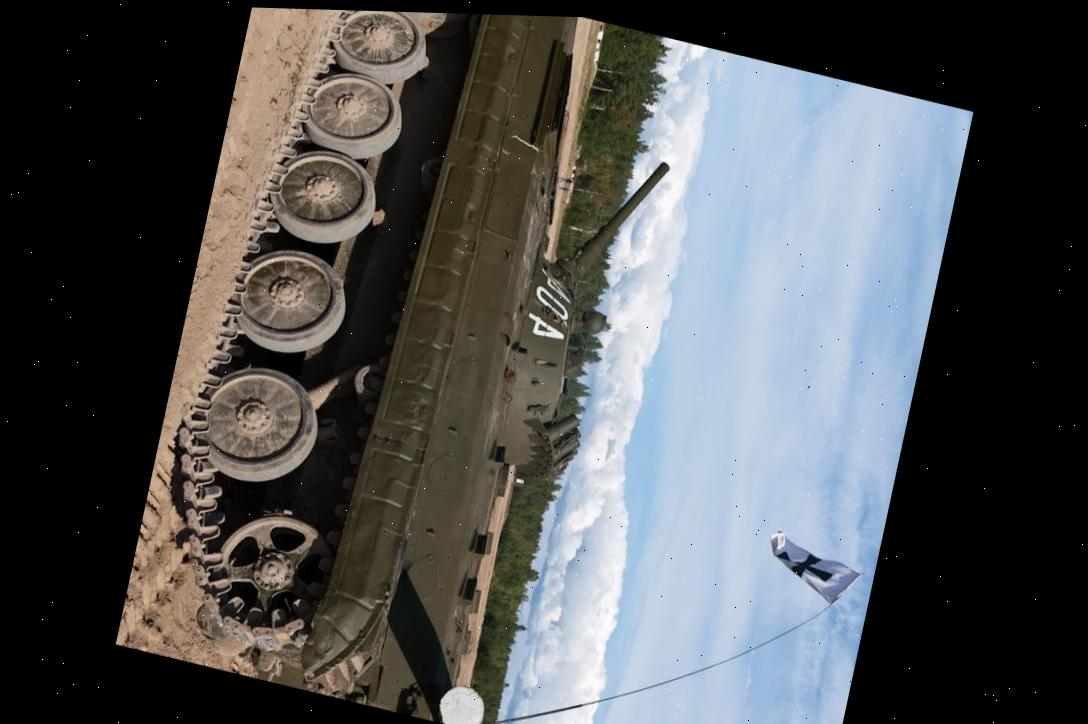tank: (126, 4, 699, 724)
